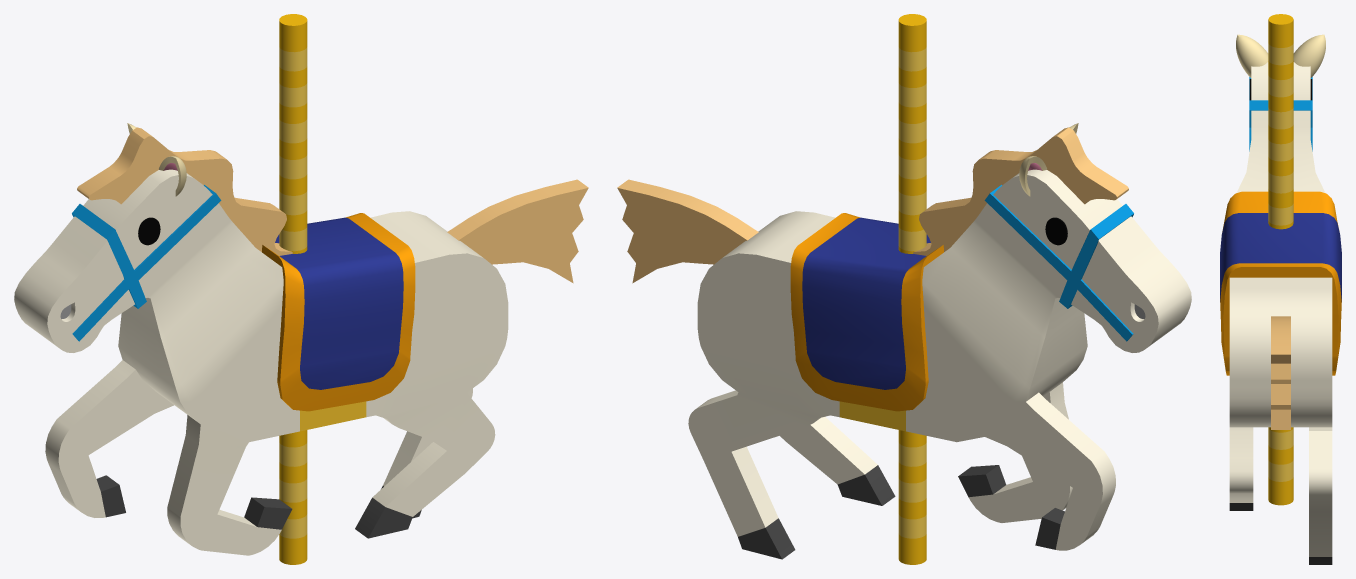
The model's file is carousel_horse.gltf.
3 views of the same model, side by side, from view 1: azimuth 30°, elevation 25°; view 2: azimuth 150°, elevation 25°; view 3: azimuth 270°, elevation 25° (orthographic). The views are drawn at different scales.
Visible parts, largest first — view 1: Plane.226, Cube.541, Cylinder.431, Plane.228; view 2: Plane.226, Cube.541, Cylinder.431, Plane.228; view 3: Plane.226, Cube.541, Cylinder.431, Plane.228.
Boxes of the visible parts, bbox=[...] form: Plane.226: bbox=[14, 123, 588, 555]; Cube.541: bbox=[262, 213, 415, 411]; Cylinder.431: bbox=[279, 14, 307, 564]; Plane.228: bbox=[72, 185, 221, 341]; Plane.226: bbox=[617, 123, 1191, 559]; Cube.541: bbox=[790, 213, 943, 411]; Cylinder.431: bbox=[898, 14, 926, 564]; Plane.228: bbox=[984, 185, 1133, 341]; Plane.226: bbox=[1229, 34, 1332, 564]; Cube.541: bbox=[1220, 191, 1341, 375]; Cylinder.431: bbox=[1268, 14, 1293, 505]; Plane.228: bbox=[1249, 77, 1312, 151].
Bounding box in the file's own units: 2.22 × 2.09 × 0.4757.
1 material, 1 textured.
